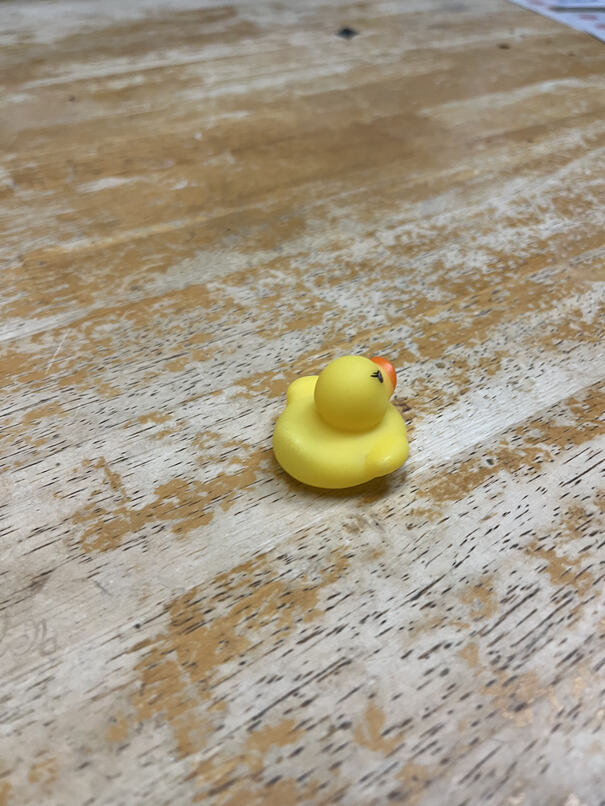duck_regular: (270, 355, 414, 486)
